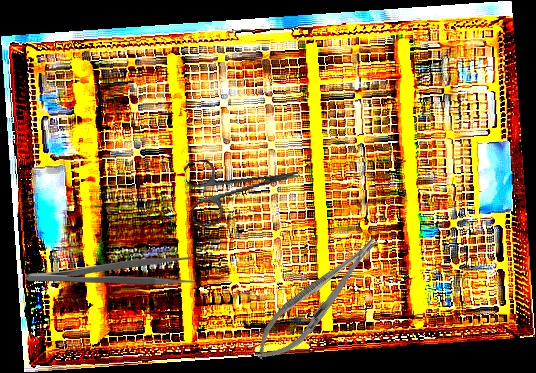Dressing Forceps: (26, 256, 193, 285)
Iris Scissors: (183, 143, 306, 229)
Needle Holder: (245, 226, 390, 372)
